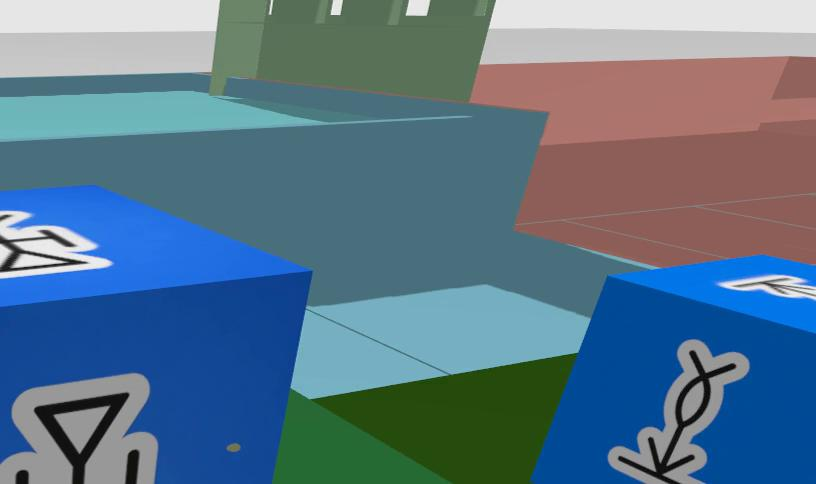KFS_REAL: (0, 186, 311, 484), (531, 255, 815, 484), (608, 339, 749, 484), (0, 374, 157, 484)
